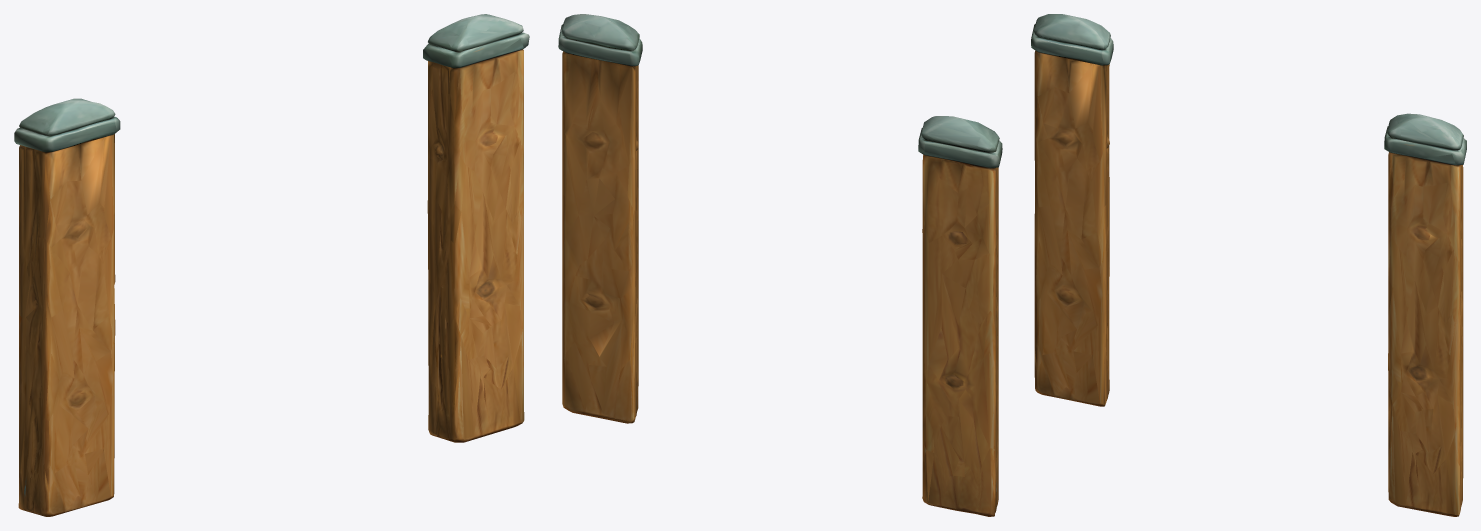
Rendered from gate_frame.glb.
3 renders of one model, left to right at view 1: azimuth 30°, elevation 25°; view 2: azimuth 150°, elevation 25°; view 3: azimuth 330°, elevation 25°, orthographic. The views are drawn at different scales.
Visible parts, largest first — view 1: tripo_node_2b114a40; view 2: tripo_node_2b114a40; view 3: tripo_node_2b114a40.
Boxes of the visible parts, <box> form: tripo_node_2b114a40: <box>14,14,529,516</box>; tripo_node_2b114a40: <box>558,14,1002,516</box>; tripo_node_2b114a40: <box>1031,14,1466,516</box>.
Bounding box in the file's own units: 1.39 × 1.13 × 0.1899.
1 material, 1 textured.
